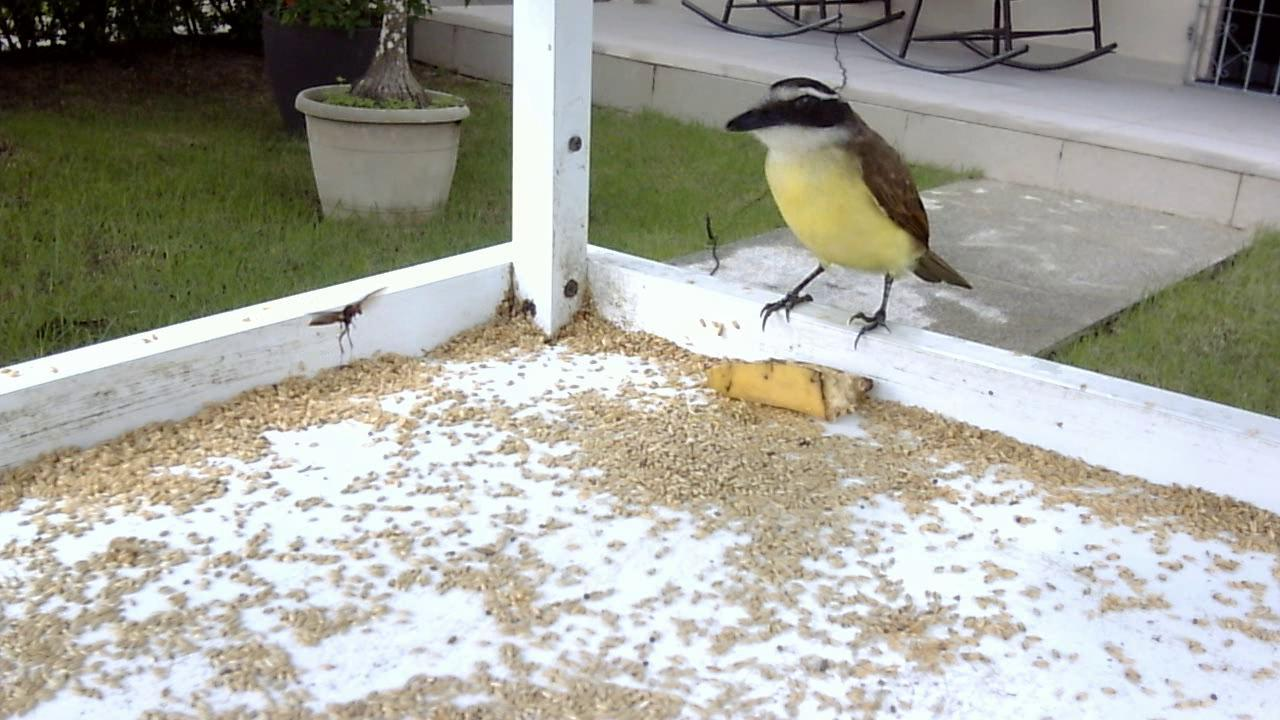bem_te_vi: (707, 66, 985, 368)
